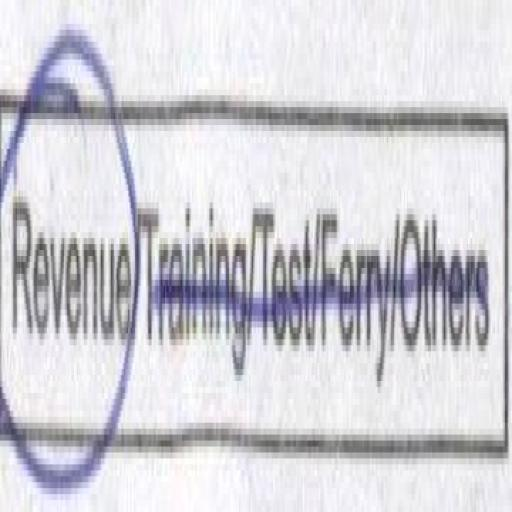check: (3, 0, 136, 512)
